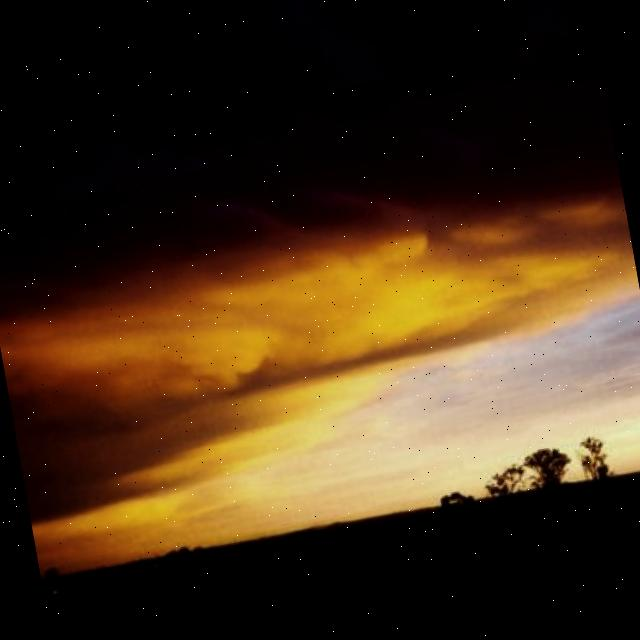As: (1, 71, 640, 487)
